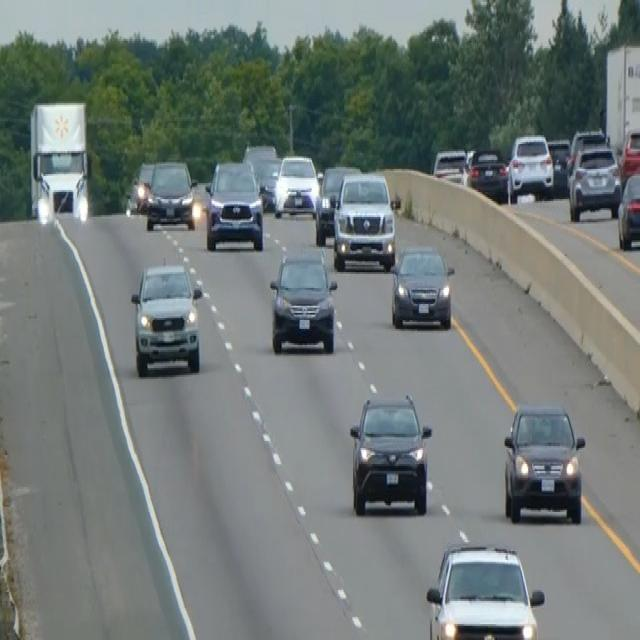car: (425, 540, 545, 638), (348, 390, 432, 516), (502, 400, 586, 524), (268, 247, 338, 354), (332, 169, 397, 270), (389, 242, 454, 331), (204, 158, 264, 251), (567, 140, 621, 220), (314, 162, 361, 244), (145, 157, 196, 231), (507, 132, 554, 199), (273, 151, 319, 219), (467, 146, 509, 201), (616, 169, 639, 249), (127, 160, 155, 215), (432, 146, 468, 185), (256, 154, 281, 210), (546, 135, 571, 190), (618, 124, 639, 185), (242, 140, 276, 170)
jeep: (129, 258, 203, 377)
lorry: (28, 98, 92, 228)
